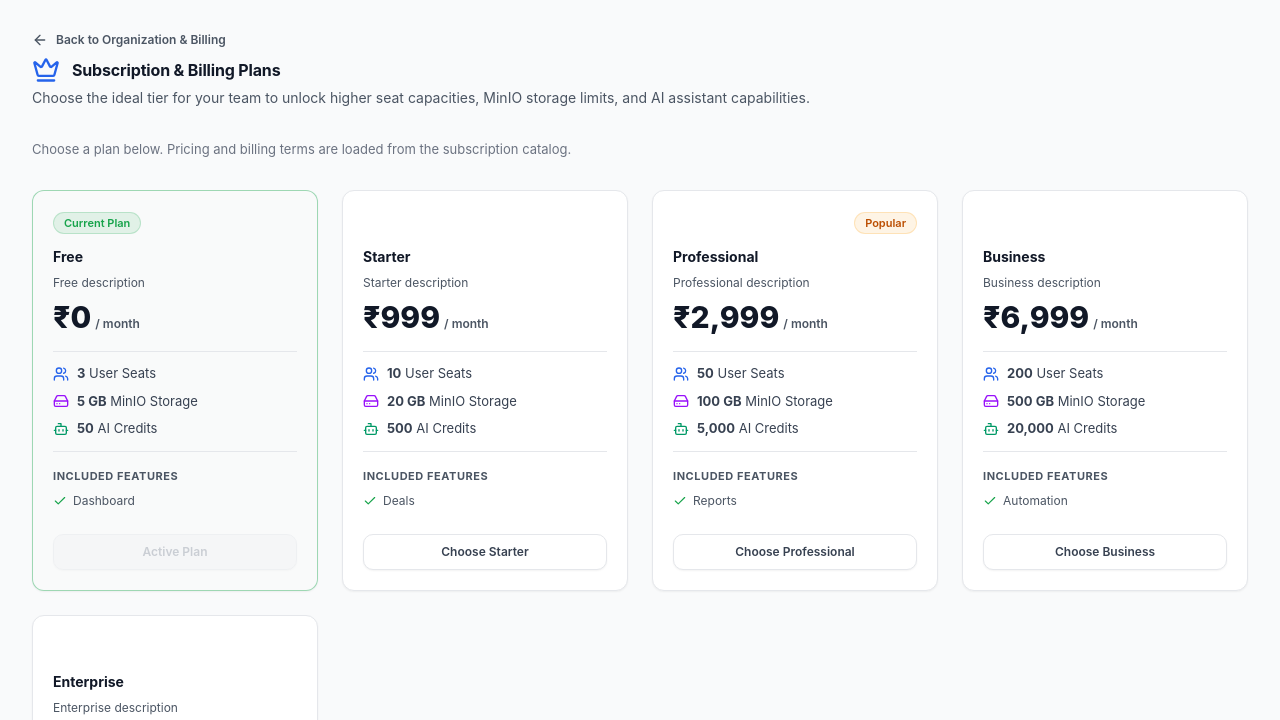
Test case: keeps current plan and latest selected plan independent
This screenshot has width=1280, height=720.
Expected: the button "Active Plan" is disabled, [53,534,297,570]
Click the button "Choose Starter" at (485, 552), box [363,534,607,570]
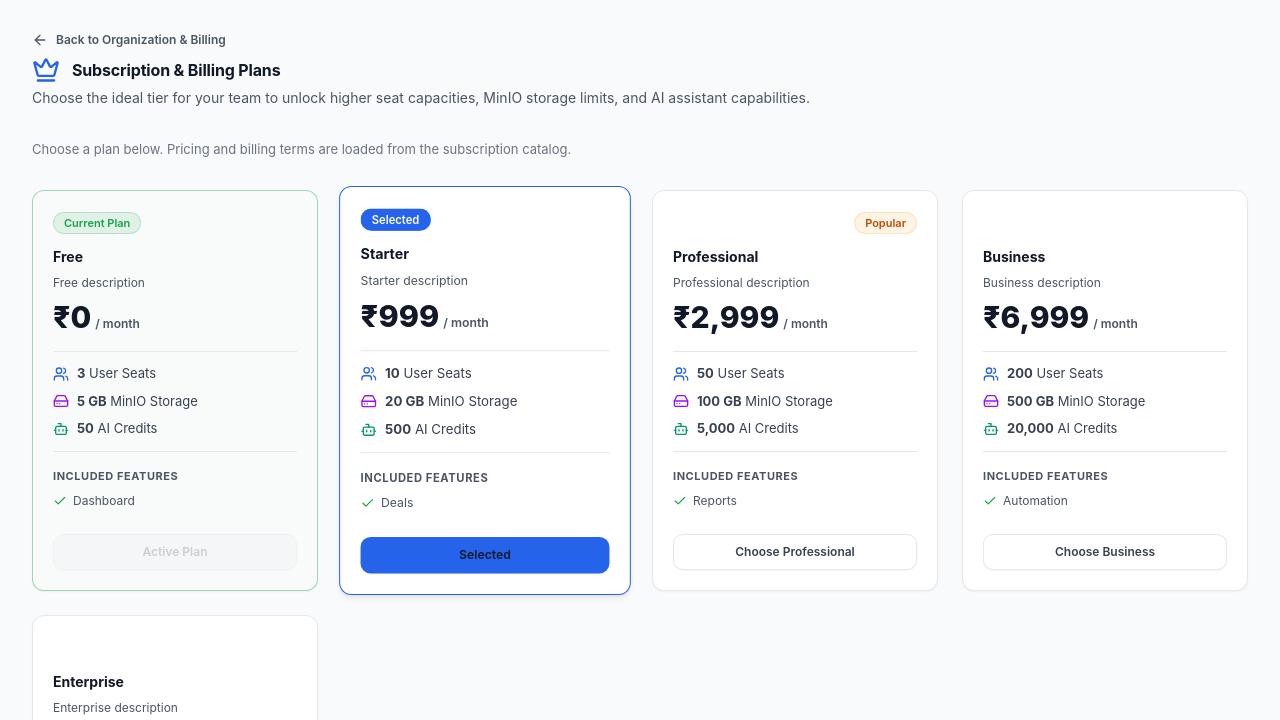
Click the button "Choose Professional" at (795, 552), box [673,534,917,570]
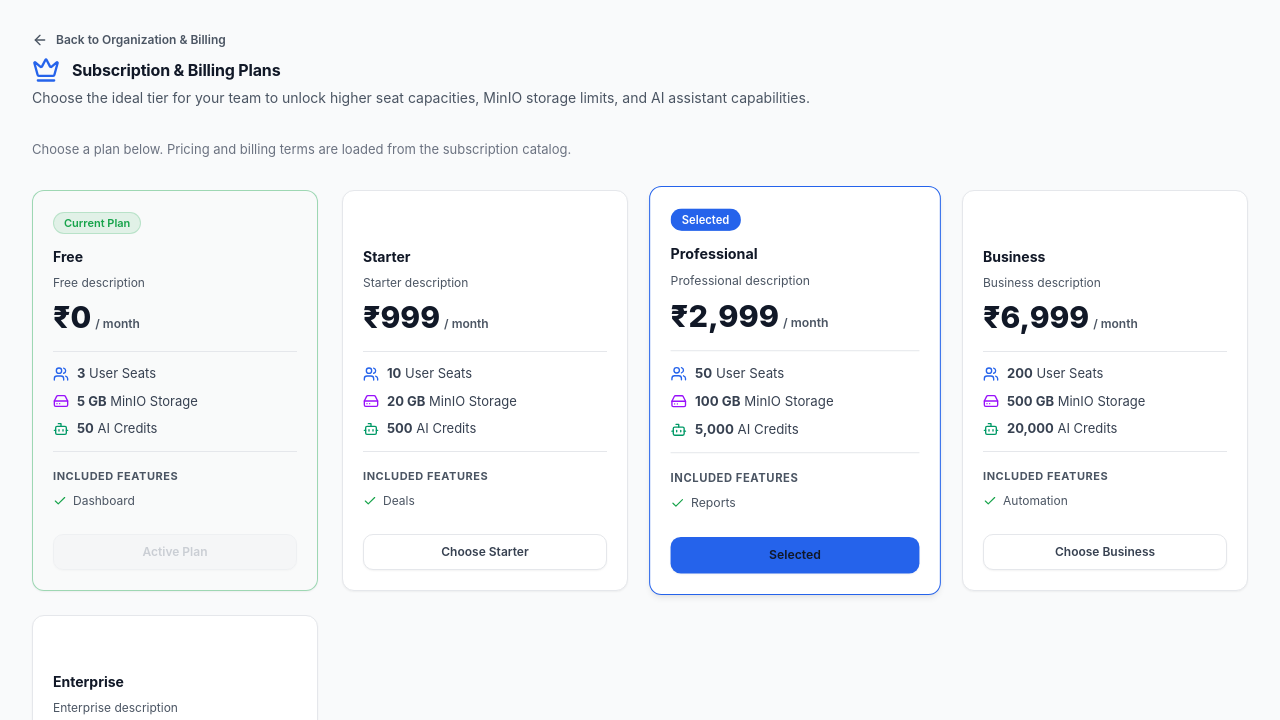
Expected: the button "Active Plan" is disabled, [53,534,297,570]
Result: the text "Selected" is shown 2 times at [671,208,741,231]; [671,536,920,573]
Result: the button "Choose Starter" is shown at [363,534,607,570]
